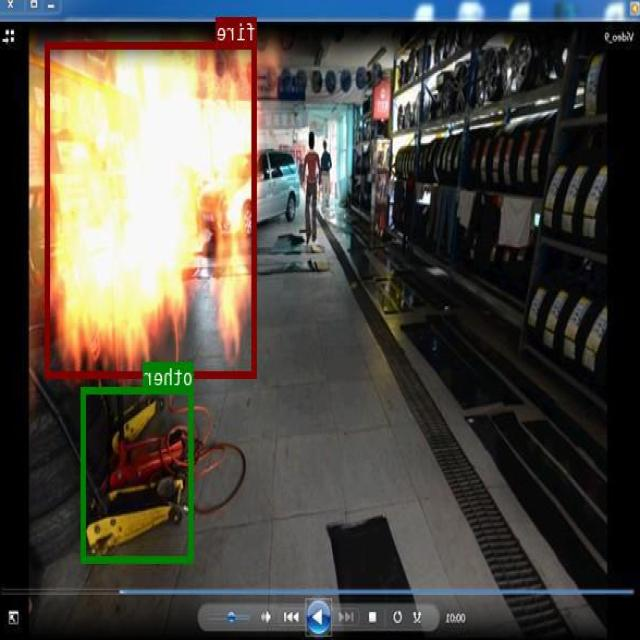fire: (46, 41, 258, 376)
other: (83, 386, 194, 562)
